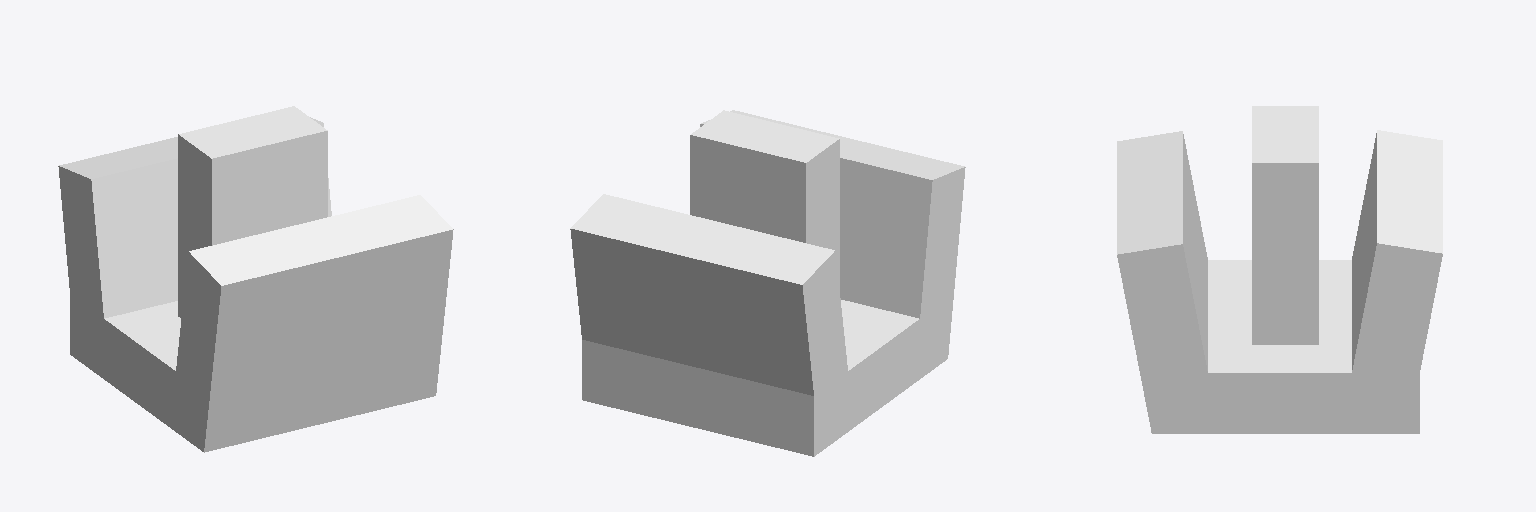
The picture shows the model from 3 angles: view 1: azimuth 30°, elevation 25°; view 2: azimuth 150°, elevation 25°; view 3: azimuth 270°, elevation 25°; orthographic projection.
Parts seen in each view (by area): view 1: m4a1_is2:Mesh; view 2: m4a1_is2:Mesh; view 3: m4a1_is2:Mesh.
Part boxes in pixels (x1,y1,x2,y2): m4a1_is2:Mesh: (58,106,453,452); m4a1_is2:Mesh: (570,110,965,456); m4a1_is2:Mesh: (1117,106,1442,433).
Bounding box in the file's own units: 0.25 × 0.25 × 0.3043.